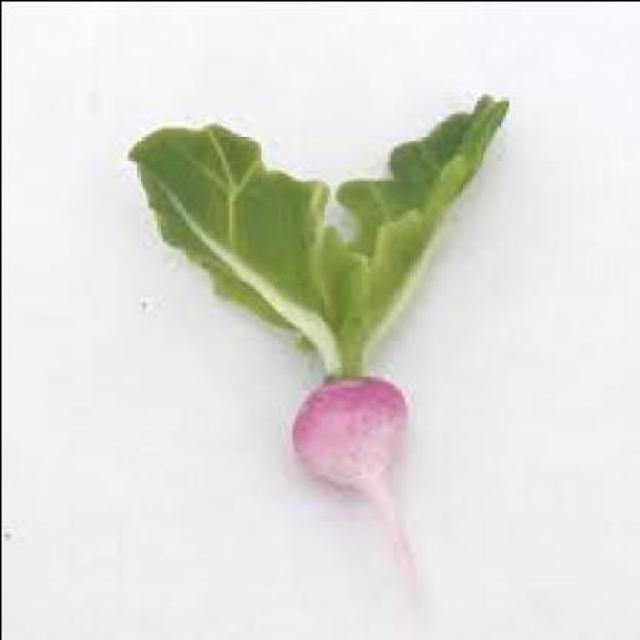BIODEGRADABLE: (122, 90, 504, 608)
